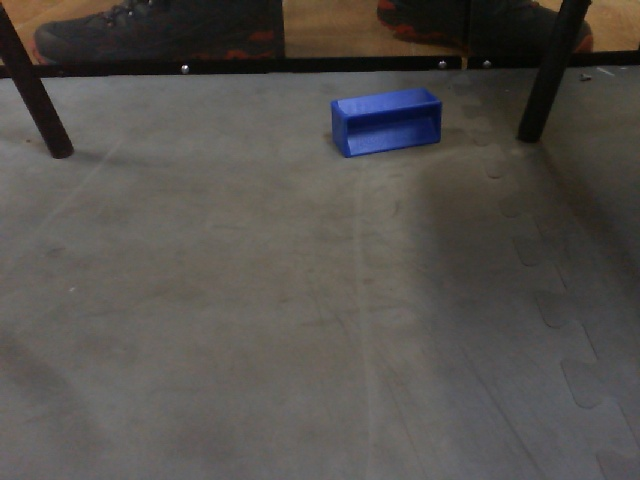BlueSample: (325, 83, 447, 161)
